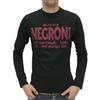abbigliamento_uomo: (15, 8, 88, 94)
